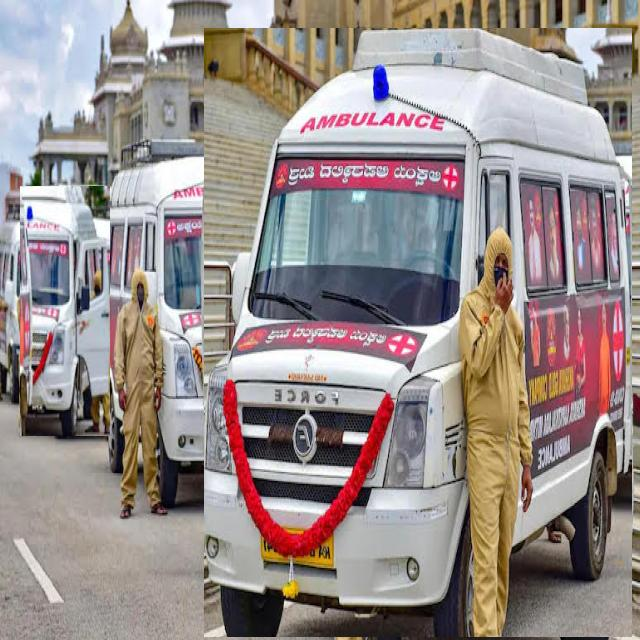emergency: (204, 29, 632, 637), (99, 151, 217, 506), (20, 186, 110, 436)
